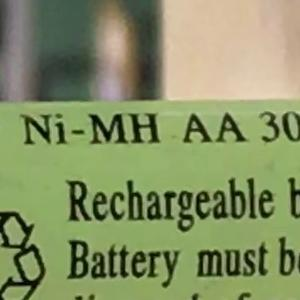NI-MH: (11, 104, 164, 154)
